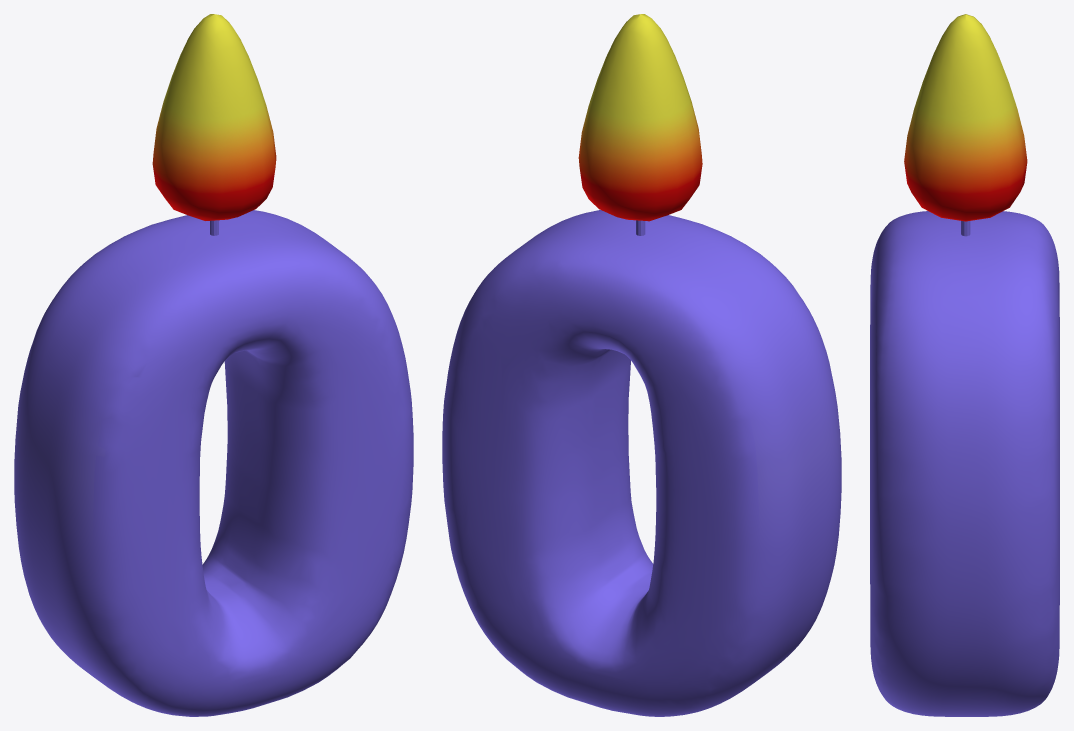
Rendered from candle_0.glb.
The picture shows the model from 3 angles, left to right: view 1: azimuth 30°, elevation 25°; view 2: azimuth 150°, elevation 25°; view 3: azimuth 270°, elevation 25°; orthographic projection.
Parts seen in each view (by area): view 1: candle_0, fire; view 2: candle_0, fire; view 3: candle_0, fire.
Part boxes in pixels (left/top/right/bottom): candle_0: left=14, top=210, right=413, bottom=716; fire: left=152, top=14, right=276, bottom=220; candle_0: left=442, top=210, right=841, bottom=716; fire: left=578, top=14, right=702, bottom=221; candle_0: left=870, top=211, right=1059, bottom=716; fire: left=904, top=14, right=1027, bottom=221.
Bounding box in the file's own units: 0.518 × 0.9508 × 0.2415.
Materials: 1 (1 with a texture image).
